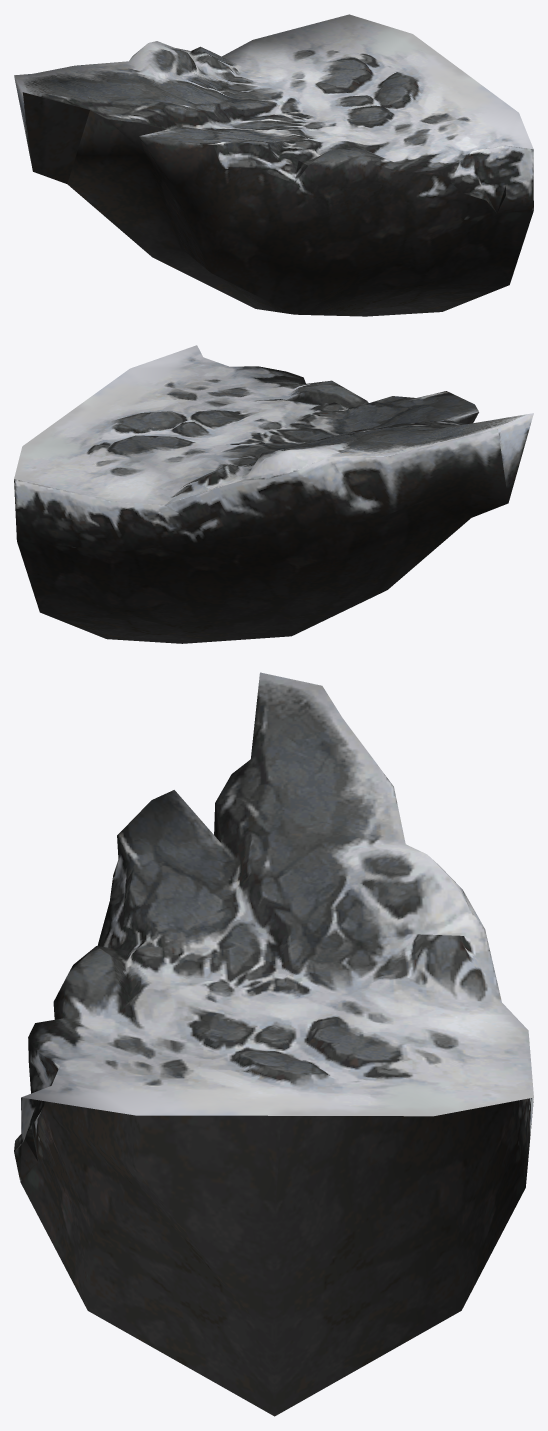
Rendered from 2005_Item_shitou_9.FBX.
3 renders of one model, top to bottom at view 1: azimuth 30°, elevation 25°; view 2: azimuth 150°, elevation 25°; view 3: azimuth 270°, elevation 25°, orthographic. The views are drawn at different scales.
Parts seen in each view (by area): view 1: 2005_Item_shitou_9; view 2: 2005_Item_shitou_9; view 3: 2005_Item_shitou_9.
Boxes of the visible parts, left/top/right/bottom form: 2005_Item_shitou_9: left=14, top=14, right=533, bottom=316; 2005_Item_shitou_9: left=14, top=345, right=533, bottom=643; 2005_Item_shitou_9: left=14, top=672, right=533, bottom=1416.
Bounding box in the file's own units: 448 × 309 × 320.
